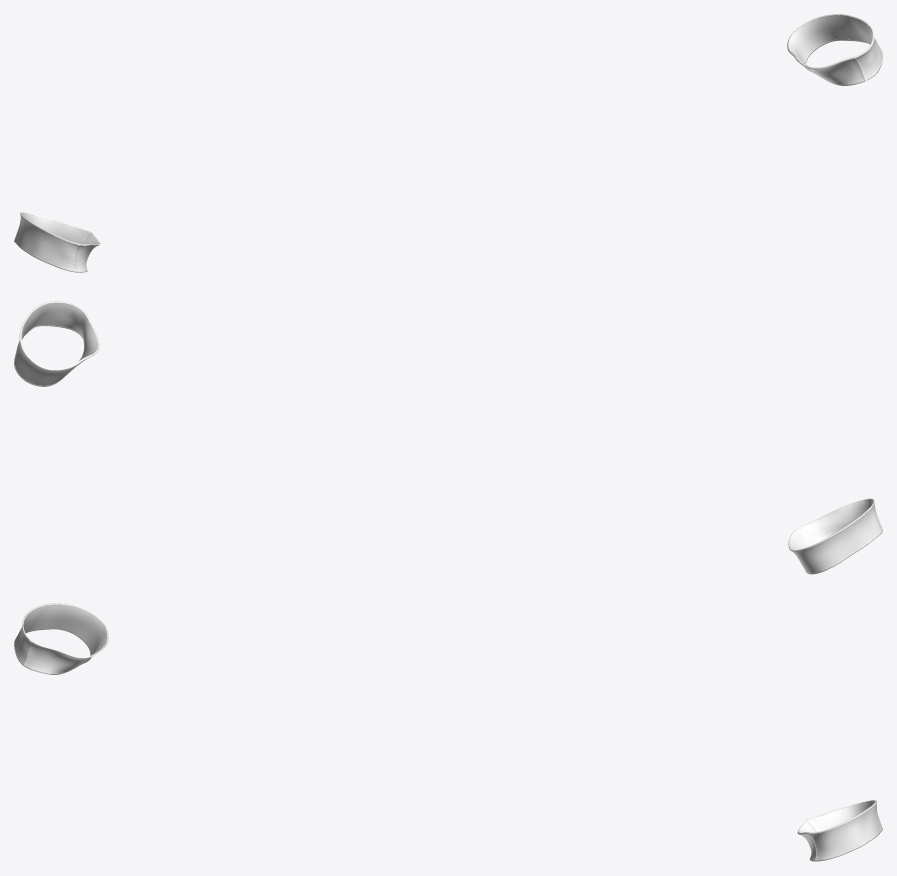
Rendered from Jac_Rukav_V2.glb.
The picture shows the model from 3 angles, top to bottom: view 1: azimuth 30°, elevation 25°; view 2: azimuth 150°, elevation 25°; view 3: azimuth 330°, elevation 25°; orthographic projection.
Visible parts, largest first — view 1: Jac_Sleeves.001, Jac_Rope_Sleeves.001; view 2: Jac_Sleeves.001, Jac_Rope_Sleeves.001; view 3: Jac_Sleeves.001, Jac_Rope_Sleeves.001.
Boxes of the visible parts, x1,y1,x2,y2 form: Jac_Sleeves.001: (14, 14, 882, 272); Jac_Rope_Sleeves.001: (14, 15, 882, 271); Jac_Sleeves.001: (14, 301, 882, 574); Jac_Rope_Sleeves.001: (14, 302, 882, 573); Jac_Sleeves.001: (14, 603, 882, 861); Jac_Rope_Sleeves.001: (14, 604, 882, 860).
Size of the model in its own units: 1.72 by 0.1006 by 0.2008.
2 materials, 2 textured.
